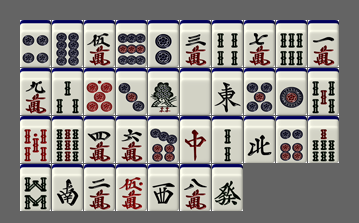0m: (116, 164, 147, 211)
0p: (84, 68, 115, 115)
0s: (20, 116, 51, 163)
1m: (308, 20, 339, 67)
1p: (276, 68, 307, 115)
1s: (148, 68, 179, 115)
1z: (212, 68, 243, 115)
2m: (84, 164, 115, 211)
2p: (148, 20, 179, 67)
2s: (212, 116, 243, 163)
2z: (52, 164, 83, 211)
3m: (180, 20, 211, 67)
3p: (116, 68, 147, 115)
3s: (52, 68, 83, 115)
3z: (148, 164, 179, 211)
4m: (84, 116, 115, 163)
4p: (20, 20, 51, 67)
4s: (212, 20, 243, 67)
4z: (244, 116, 275, 163)
5m: (84, 20, 115, 67)
5p: (244, 68, 275, 115)
5s: (308, 68, 339, 115)
5z: (180, 68, 211, 115)
6m: (116, 116, 147, 163)
6p: (276, 116, 307, 163)
6s: (276, 20, 307, 67)
6z: (212, 164, 243, 211)
7m: (244, 20, 275, 67)
7p: (148, 116, 179, 163)
7s: (308, 116, 339, 163)
7z: (180, 116, 211, 163)
8m: (180, 164, 211, 211)
8p: (52, 20, 83, 67)
8s: (20, 164, 51, 211)
9m: (20, 68, 51, 115)
9p: (116, 20, 147, 67)
9s: (52, 116, 83, 163)
